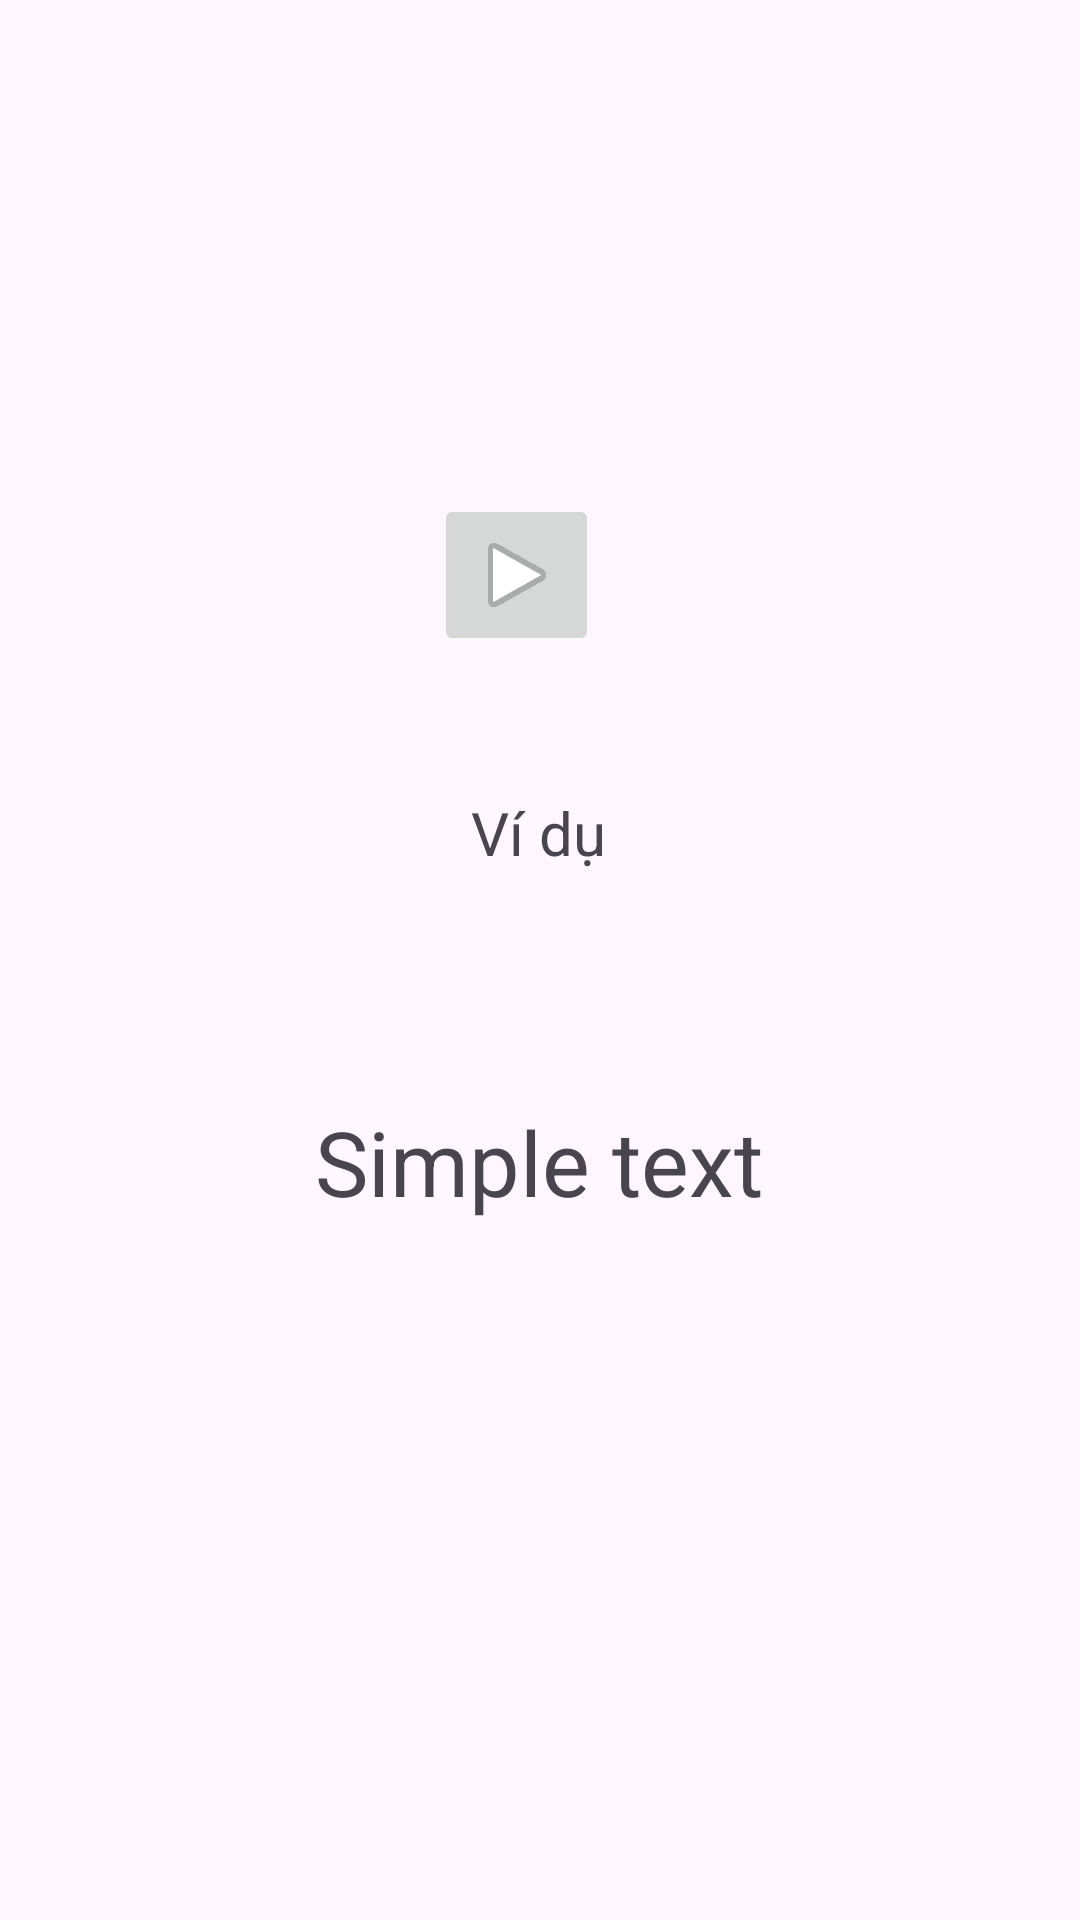

Locate icon controls on the screen. Image size 1080×1920, boxes as (x1, y1, x2, y2).
play: (446, 512, 587, 638)
